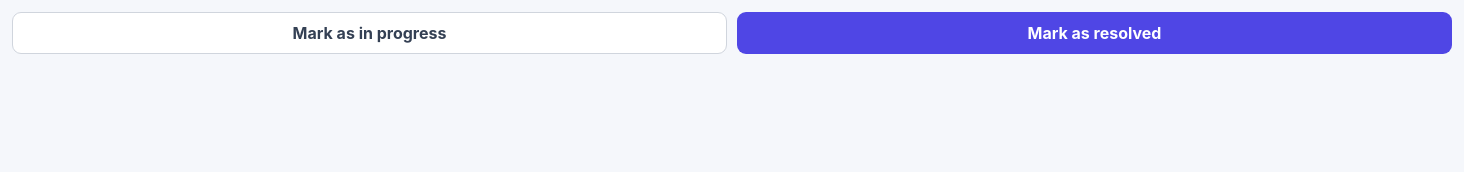
Scenario: IssueStatusAction › shows an error and leaves the action available after a failure
Click the button "Mark as resolved" at (1094, 33), box x1=737 y1=12 x2=1452 y2=54
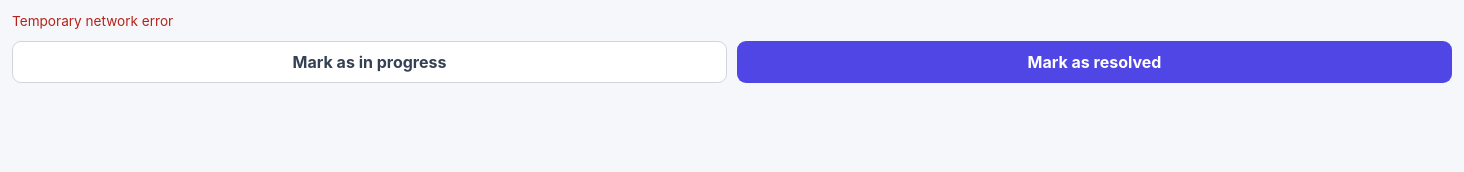
Expected: the button "Mark as resolved" is enabled, x1=737 y1=41 x2=1452 y2=83
Expected: the message reads "Temporary network error", x1=12 y1=13 x2=173 y2=29
